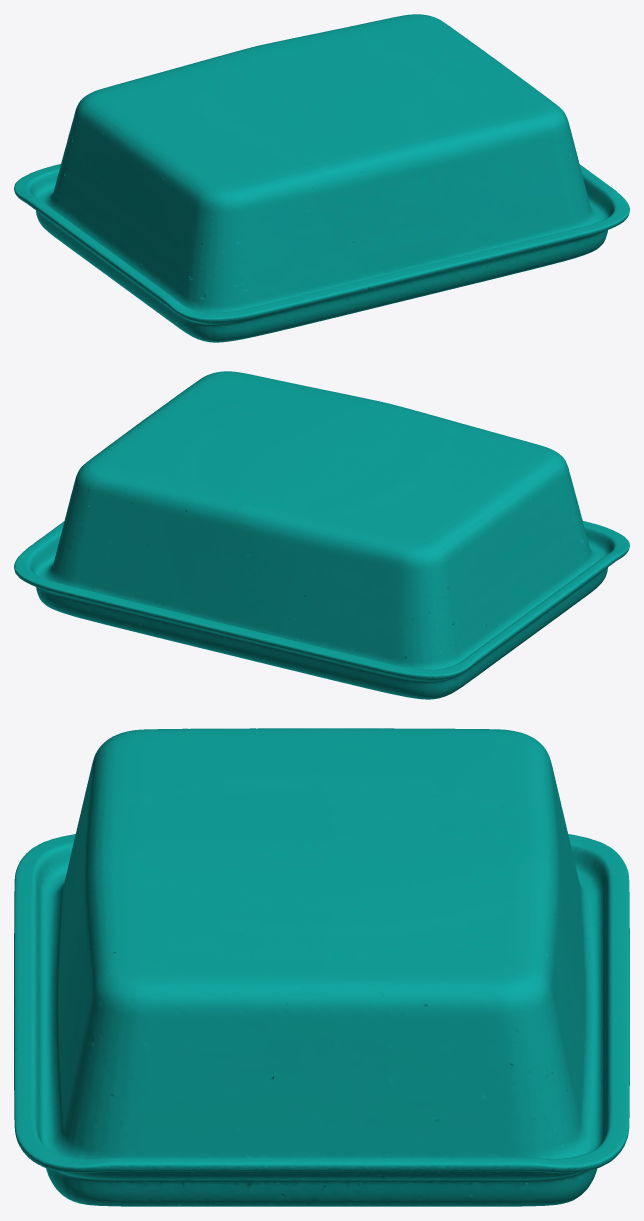
3 renders of one model, top to bottom at view 1: azimuth 30°, elevation 25°; view 2: azimuth 150°, elevation 25°; view 3: azimuth 270°, elevation 25°, orthographic. The views are drawn at different scales.
Bounding box in the file's own units: 1.68 × 0.4962 × 1.3.
1 material, 1 textured.
